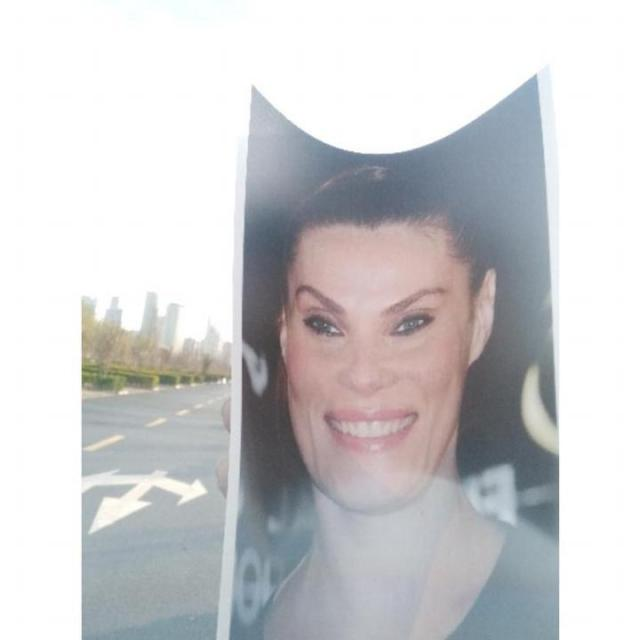photo: (212, 65, 558, 639)
